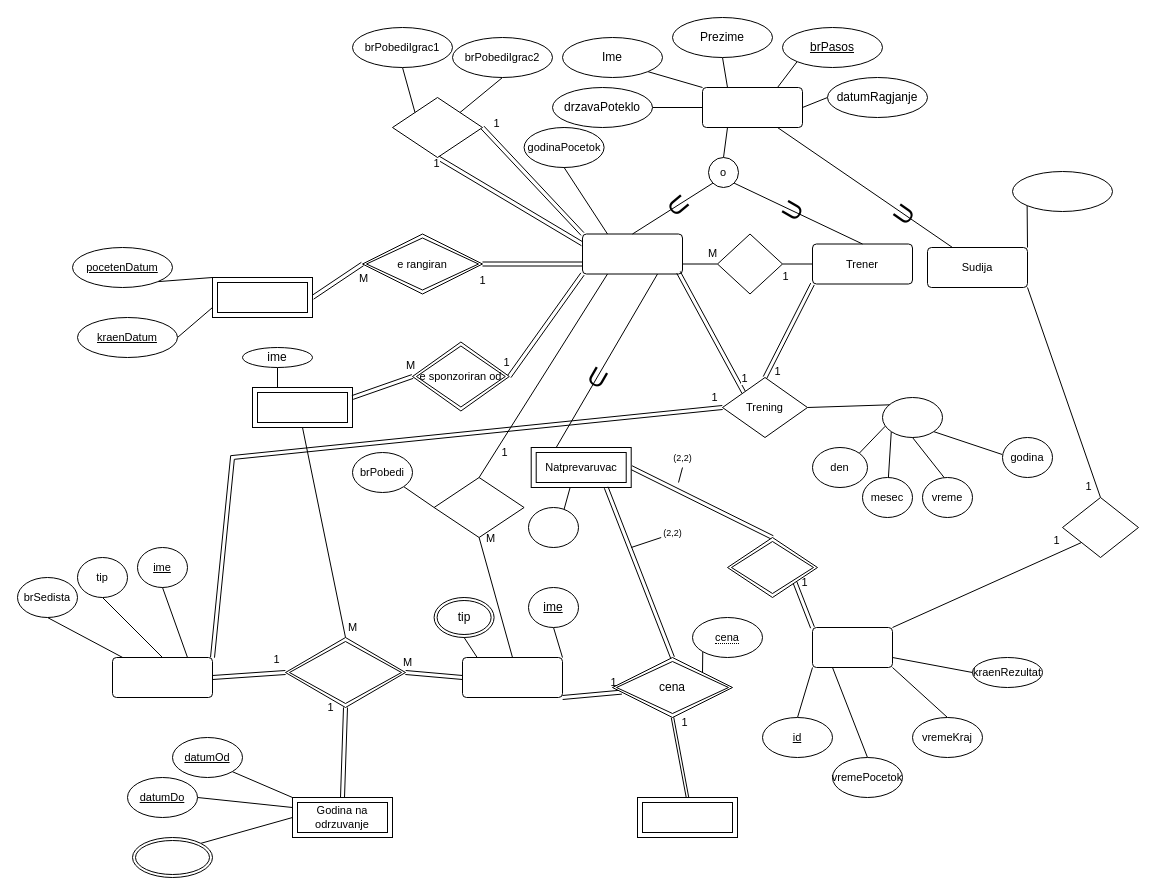
The diagram is 1156 pixels wide and 895 high, and some of its shapes have lost their labels. Each missing label, with the centre of its shape:
"bilet" goes at (687,817).
"datum" goes at (912,417).
"e najdobar igrac" goes at (478,507).
"go treniral" goes at (749,263).
"headToHead" goes at (437,127).
"Igrac" goes at (632,253).
"iskustvo" goes at (1062,191).
"Natprevar" goes at (852,647).
"natprevaruva" goes at (772,567).
"odrzuvanjeTurnir" goes at (345,672).
"pozicija" goes at (553,527).
"Rang mesto" goes at (262,297).
"Sponzor za igrac" goes at (302,407).
"sponzori" goes at (172,857).
"sudenje" goes at (1100,527).
"Teren" goes at (162,677).
"Turnir" goes at (512,677).
"Ucesnik" goes at (752,107).
